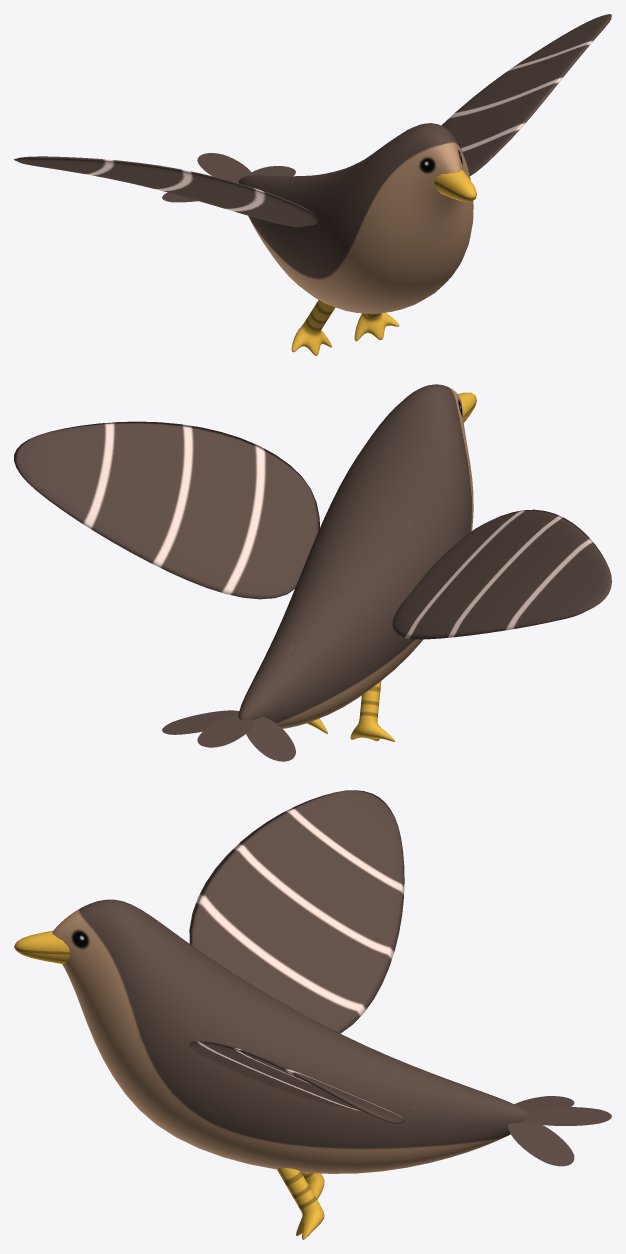
Rendered from Bird.fbx.
The picture shows the model from 3 angles, top to bottom: view 1: azimuth 30°, elevation 25°; view 2: azimuth 150°, elevation 25°; view 3: azimuth 270°, elevation 25°; orthographic projection. The views are drawn at different scales.
Parts seen in each view (by area): view 1: Body, WingOne, WingTwo; view 2: Body, WingOne, WingTwo; view 3: Body, WingTwo, WingOne.
Part boxes in pixels (x1=…): Body: x1=162, y1=123, x2=476, y2=355; WingOne: x1=441, y1=14, x2=611, y2=175; WingTwo: x1=14, y1=156, x2=319, y2=226; Body: x1=162, y1=384, x2=476, y2=761; WingOne: x1=14, y1=421, x2=319, y2=599; WingTwo: x1=392, y1=509, x2=611, y2=639; Body: x1=14, y1=899, x2=611, y2=1239; WingTwo: x1=189, y1=790, x2=404, y2=1033; WingOne: x1=189, y1=1041, x2=404, y2=1124.
Bounding box in the file's own units: 711 × 326 × 560.
Materials: 1 (1 with a texture image).
